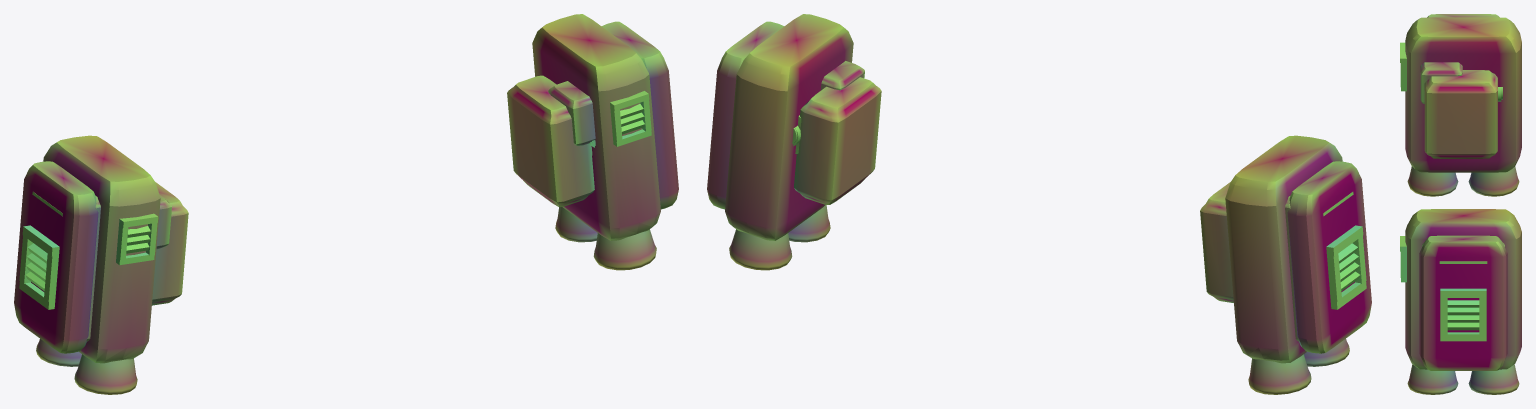
The model's file is llm_gen_leg_thrusters_053_169f73.glb.
3 views of the same model, side by side, from view 1: azimuth 30°, elevation 25°; view 2: azimuth 150°, elevation 25°; view 3: azimuth 270°, elevation 25° (orthographic). The views are drawn at different scales.
Visible parts, largest first — view 1: greave_pylon_0_era_block_r, greave_pylon_0_era_block_l, lateral_binder_shroud_2_crimson_gloss_l, adapter_calf_clamp_r, lateral_binder_shroud_2_crimson_gloss_r, adapter_calf_clamp_l, ankle_vector_bell_b_7_vernier_bell_vernier_l, ankle_vector_bell_b_7_vernier_bell_vernier_r, adapter_sub_binder_side_vent_3_dark_l, adapter_leg_knee_mount_dark_8_adapter_dark_r, adapter_sub_greave_intake_grille_5_dark_l, adapter_sub_greave_intake_grille_5_dark_r (+5 smaller); view 2: greave_pylon_0_era_block_r, greave_pylon_0_era_block_l, lateral_binder_shroud_2_crimson_gloss_l, adapter_calf_clamp_r, lateral_binder_shroud_2_crimson_gloss_r, adapter_calf_clamp_l, ankle_vector_bell_a_6_vernier_bell_vernier_l, ankle_vector_bell_a_6_vernier_bell_vernier_r, adapter_sub_binder_side_vent_3_dark_l, ankle_vector_bell_b_7_vernier_bell_vernier_r, adapter_leg_knee_mount_dark_8_adapter_dark_r, binder_side_vent_3_gold_l (+1 smaller); view 3: greave_pylon_0_era_block_l, lateral_binder_shroud_2_crimson_gloss_r, greave_pylon_0_era_block_r, adapter_calf_clamp_l, adapter_sub_binder_side_vent_3_dark_r, ankle_vector_bell_a_6_vernier_bell_vernier_r, ankle_vector_bell_b_7_vernier_bell_vernier_r, ankle_vector_bell_a_6_vernier_bell_vernier_l, ankle_vector_bell_b_7_vernier_bell_vernier_l, binder_side_vent_3_gold_r, adapter_leg_knee_mount_dark_8_adapter_dark_l, adapter_sub_greave_intake_grille_5_dark_l (+3 smaller).
Boxes of the visible parts, x1,y1,x2,y2 form: greave_pylon_0_era_block_r: [532, 14, 660, 240]; greave_pylon_0_era_block_l: [43, 135, 160, 363]; lateral_binder_shroud_2_crimson_gloss_l: [14, 161, 98, 353]; adapter_calf_clamp_r: [507, 75, 594, 206]; lateral_binder_shroud_2_crimson_gloss_r: [601, 21, 678, 209]; adapter_calf_clamp_l: [152, 182, 188, 305]; ankle_vector_bell_b_7_vernier_bell_vernier_l: [74, 354, 137, 394]; ankle_vector_bell_b_7_vernier_bell_vernier_r: [593, 229, 656, 270]; adapter_sub_binder_side_vent_3_dark_l: [19, 225, 59, 309]; adapter_leg_knee_mount_dark_8_adapter_dark_r: [548, 81, 595, 145]; adapter_sub_greave_intake_grille_5_dark_l: [116, 213, 158, 265]; adapter_sub_greave_intake_grille_5_dark_r: [610, 91, 651, 146]; greave_pylon_0_era_block_r: [725, 14, 853, 240]; greave_pylon_0_era_block_l: [1225, 135, 1342, 363]; lateral_binder_shroud_2_crimson_gloss_l: [1287, 161, 1371, 353]; adapter_calf_clamp_r: [794, 77, 881, 204]; lateral_binder_shroud_2_crimson_gloss_r: [707, 21, 784, 209]; adapter_calf_clamp_l: [1200, 182, 1233, 302]; ankle_vector_bell_a_6_vernier_bell_vernier_l: [1248, 354, 1311, 394]; ankle_vector_bell_a_6_vernier_bell_vernier_r: [729, 229, 792, 270]; adapter_sub_binder_side_vent_3_dark_l: [1326, 225, 1366, 309]; ankle_vector_bell_b_7_vernier_bell_vernier_r: [788, 204, 830, 242]; adapter_leg_knee_mount_dark_8_adapter_dark_r: [820, 61, 864, 90]; binder_side_vent_3_gold_l: [1338, 243, 1360, 291]; greave_pylon_0_era_block_l: [1405, 17, 1521, 172]; lateral_binder_shroud_2_crimson_gloss_r: [1419, 235, 1507, 370]; greave_pylon_0_era_block_r: [1405, 209, 1521, 369]; adapter_calf_clamp_l: [1424, 70, 1497, 158]; adapter_sub_binder_side_vent_3_dark_r: [1440, 288, 1486, 341]; ankle_vector_bell_a_6_vernier_bell_vernier_r: [1468, 364, 1519, 394]; ankle_vector_bell_b_7_vernier_bell_vernier_r: [1407, 364, 1458, 394]; ankle_vector_bell_a_6_vernier_bell_vernier_l: [1468, 166, 1519, 196]; ankle_vector_bell_b_7_vernier_bell_vernier_l: [1407, 166, 1458, 196]; binder_side_vent_3_gold_r: [1447, 300, 1479, 330]; adapter_leg_knee_mount_dark_8_adapter_dark_l: [1420, 62, 1462, 103]; adapter_sub_greave_intake_grille_5_dark_l: [1400, 42, 1406, 91].
Bounding box in the file's own units: 86.2 × 27.72 × 18.25.
